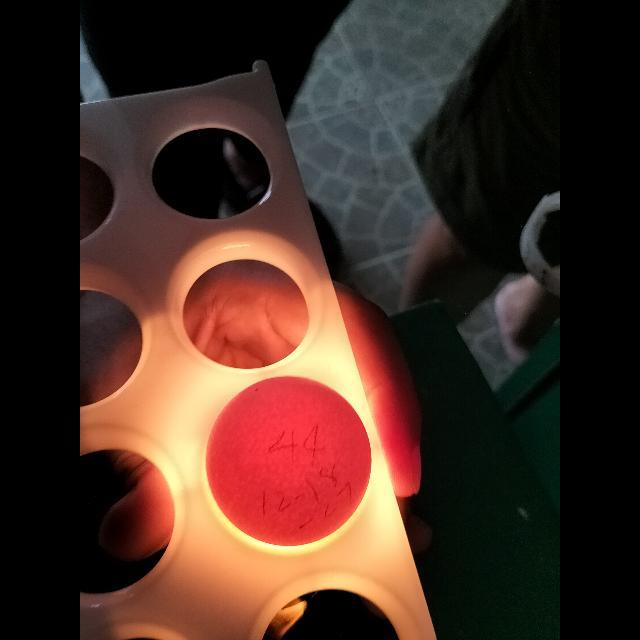Infertile: (206, 376, 372, 544)
